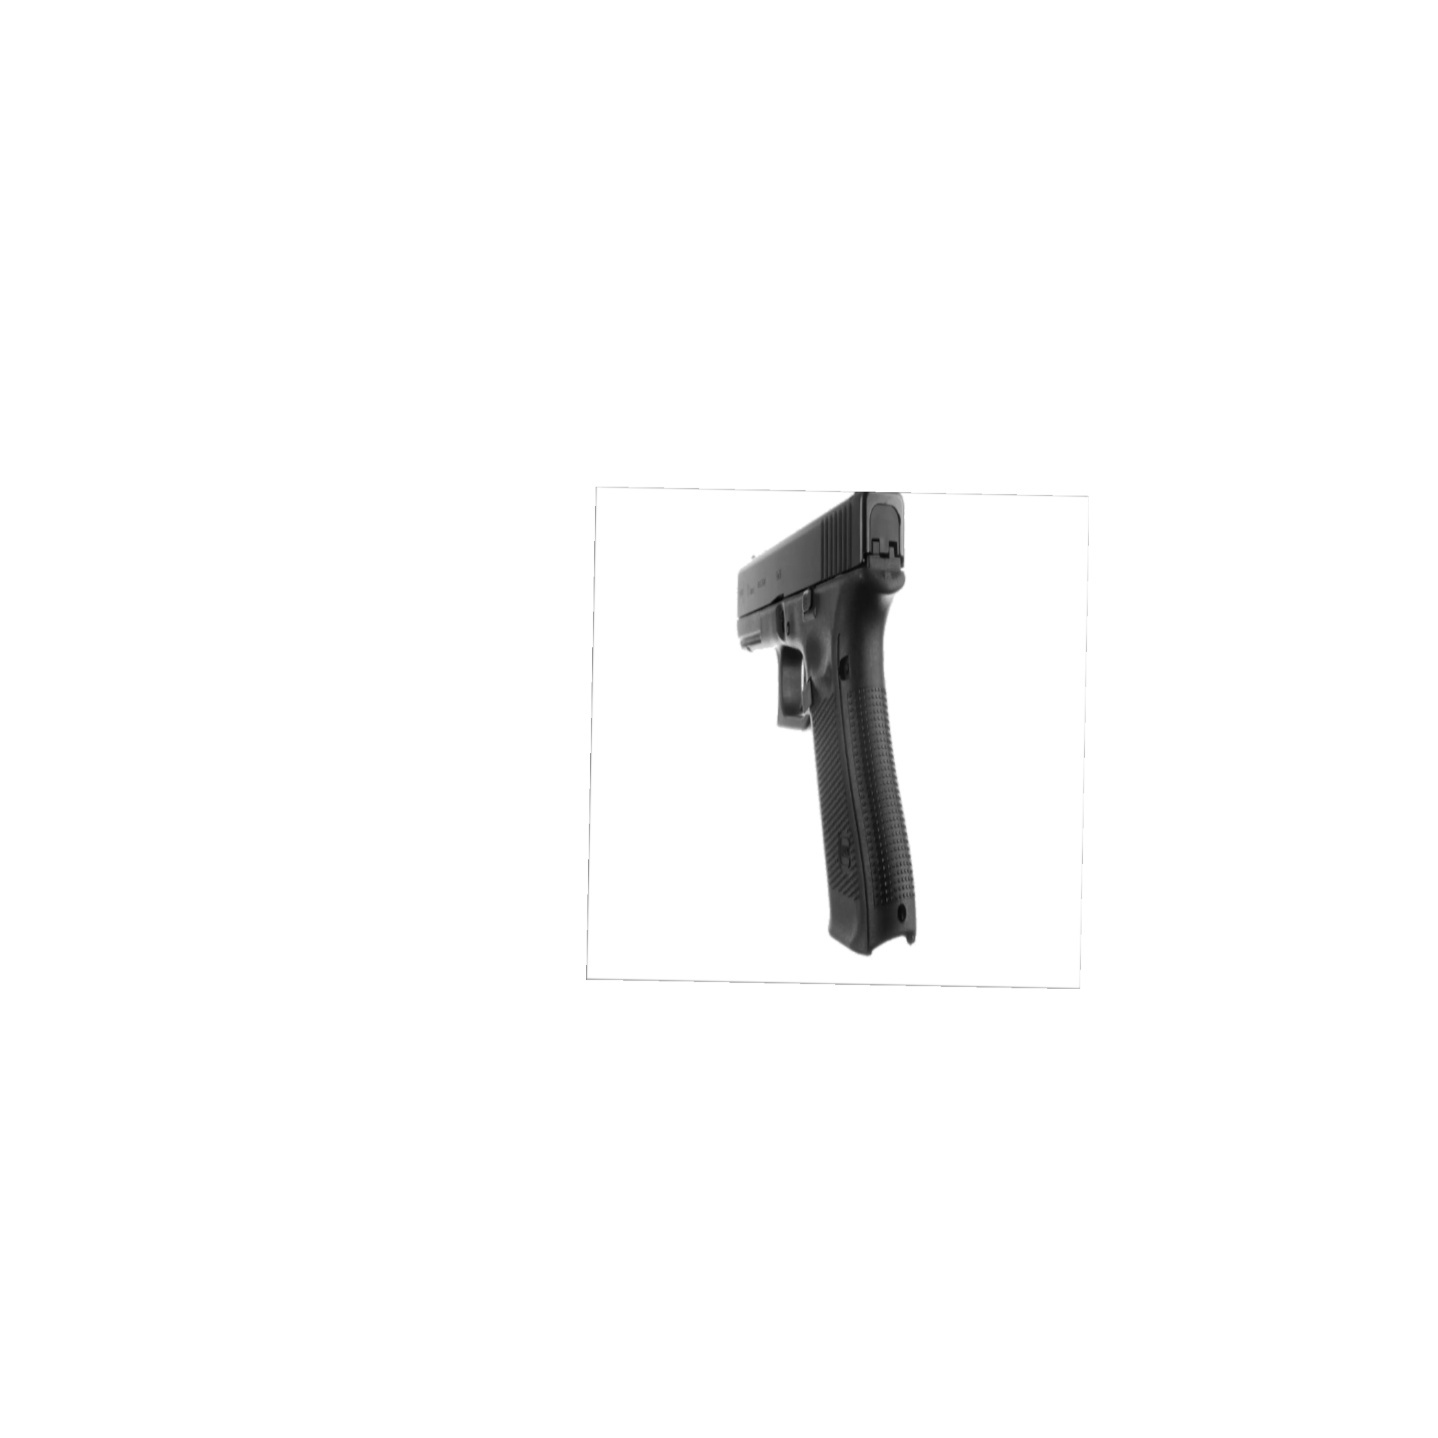gun: (708, 493, 967, 964)
